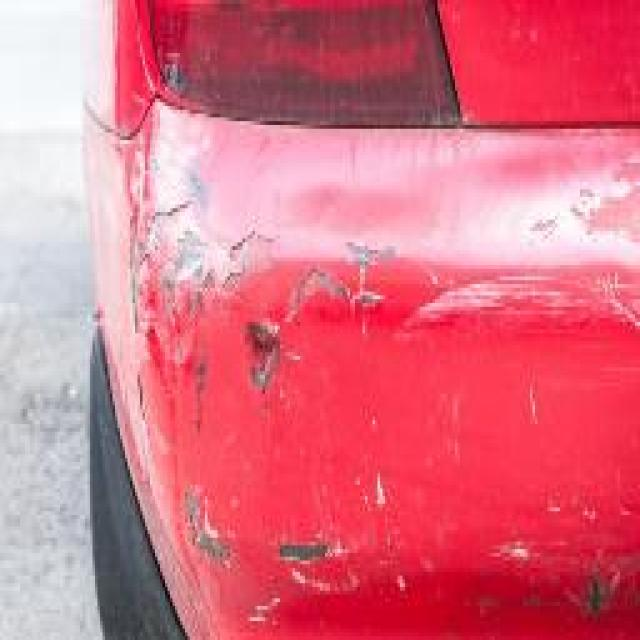Bumper: (88, 110, 640, 640)
